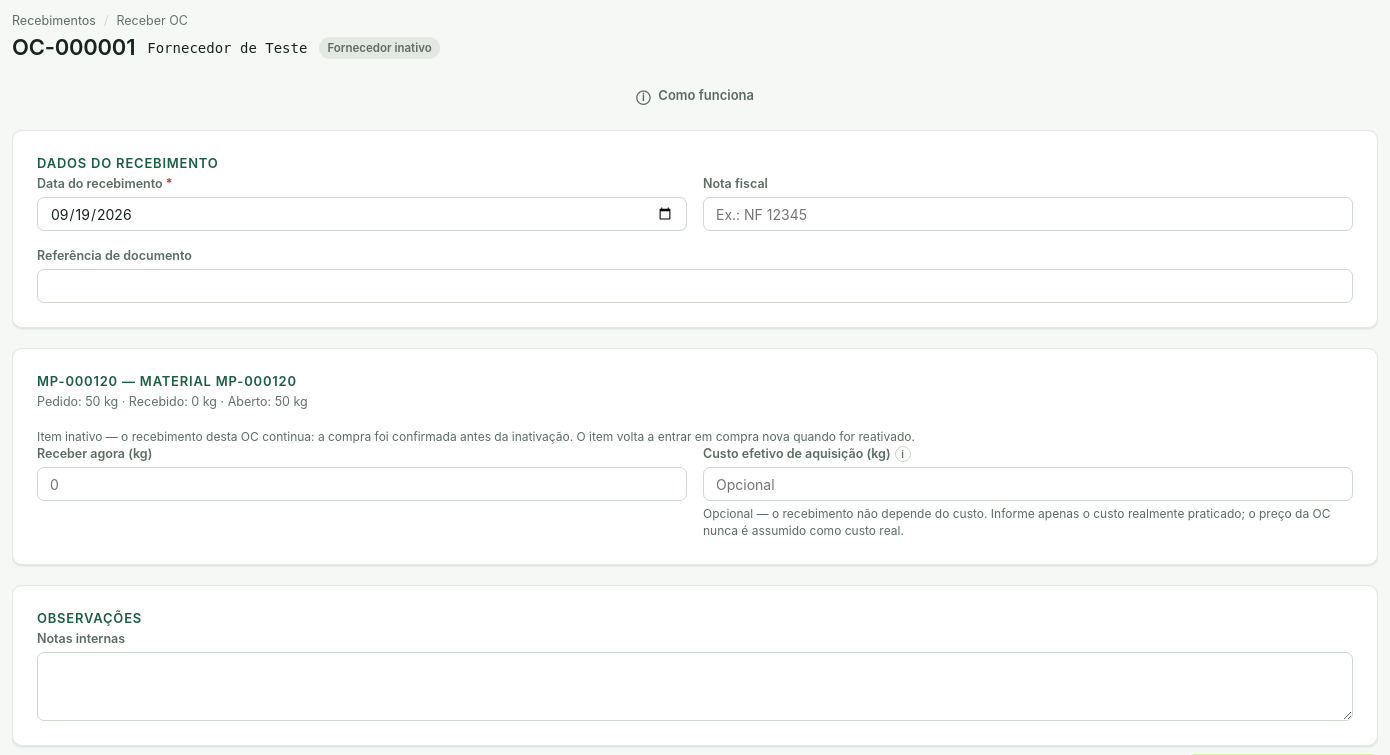
Test: Recebimento — a tela antecipa o que já sabe (F-06-1) › quantidade acima do saldo aberto avisa antes de qualquer envio
expect the heading "MP-000120 — Material MP-000120" is shown: met, box [37,373,297,389]
Type "80" into the field labelled "Receber agora (kg)".
click(362, 484); type("80")  # box [37,467,687,501]
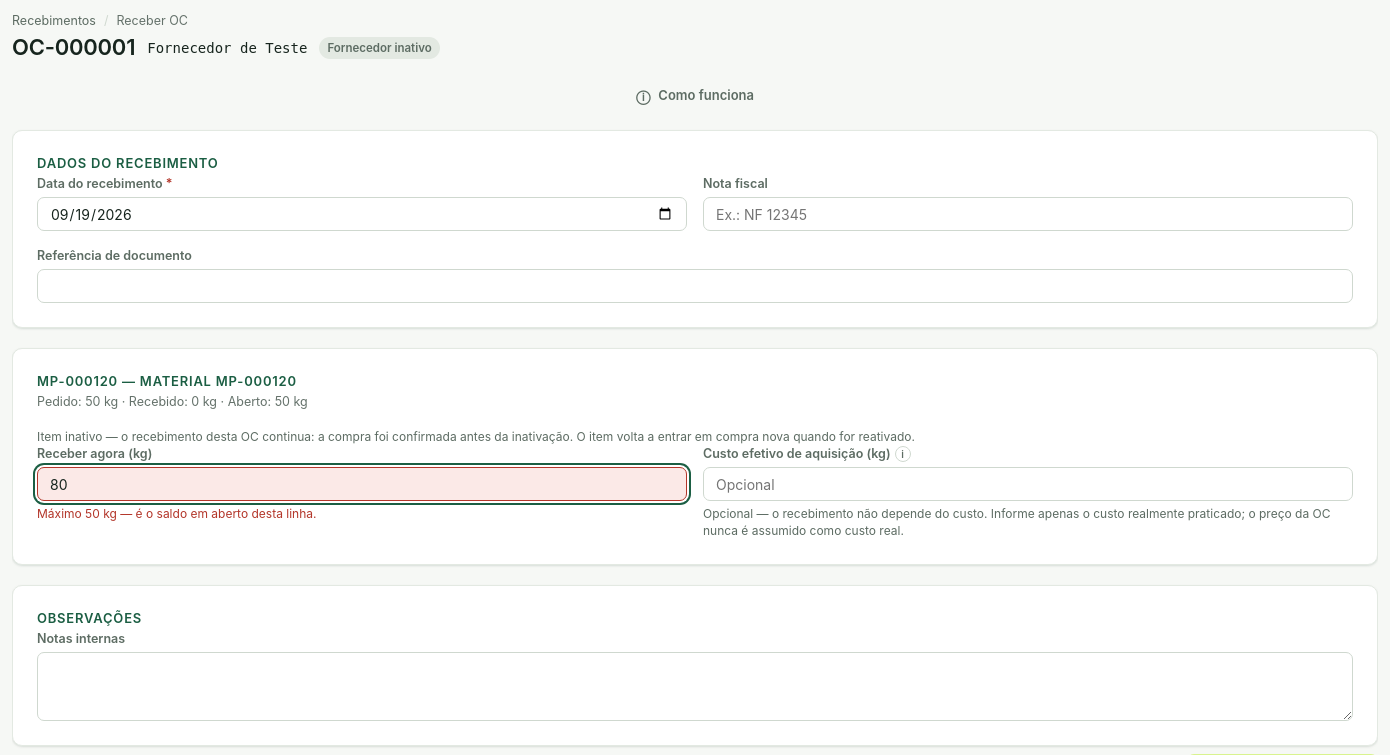
expect the text "Máximo 50 kg — é o saldo em aberto desta linha." is shown: met, box [37,506,316,521]
